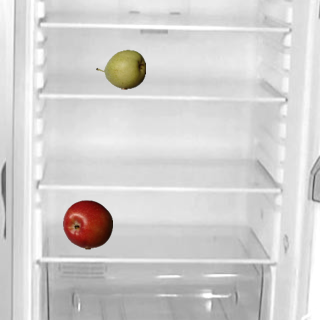Apple Braeburn: (62, 199, 112, 249)
Pear: (95, 44, 145, 94)
